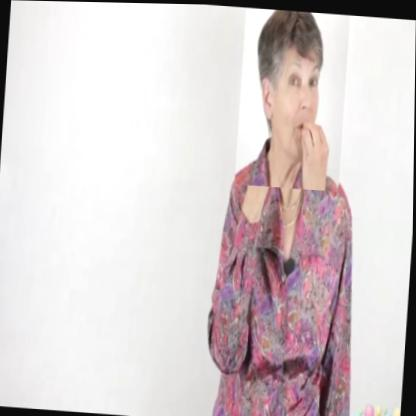Food: (234, 6, 349, 190)
